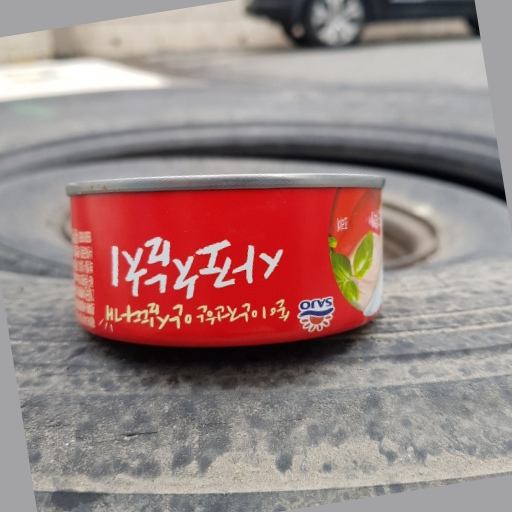Metal_1: (61, 175, 392, 347)
